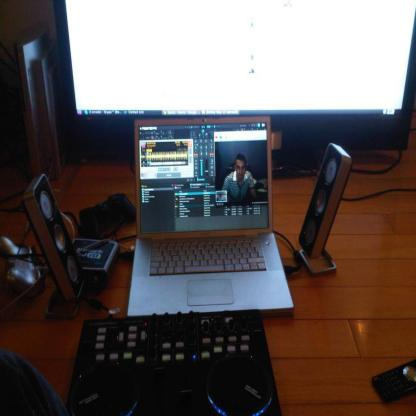board: (127, 118, 294, 317)
